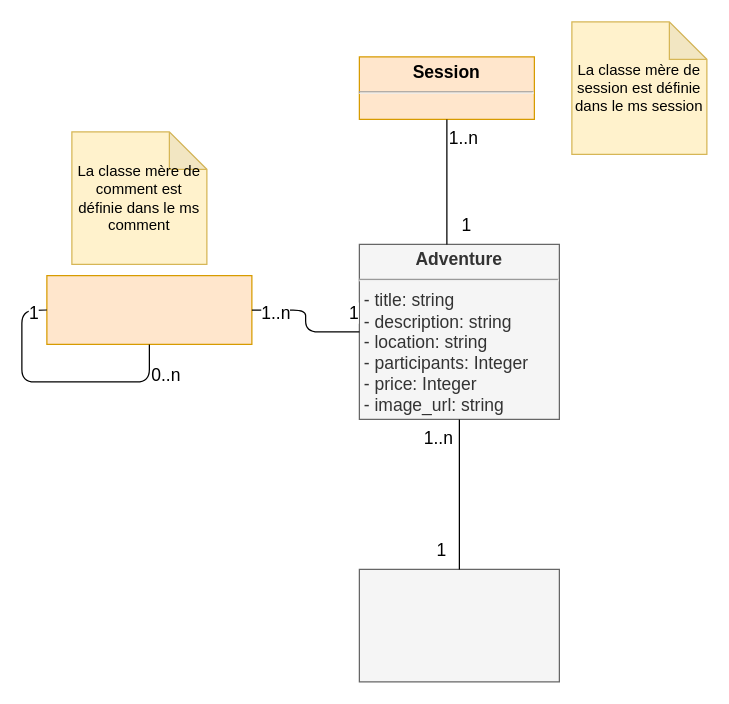
Some shapes in this 729 by 704 pixel diagram are drawn without their labels. The shapes that lost their labels are listed below. From the top down, each one's centre as x and y in pixels, then its label:
point 149,309: Comments
point 458,625: Category - title: string - description: string - image_url: string
